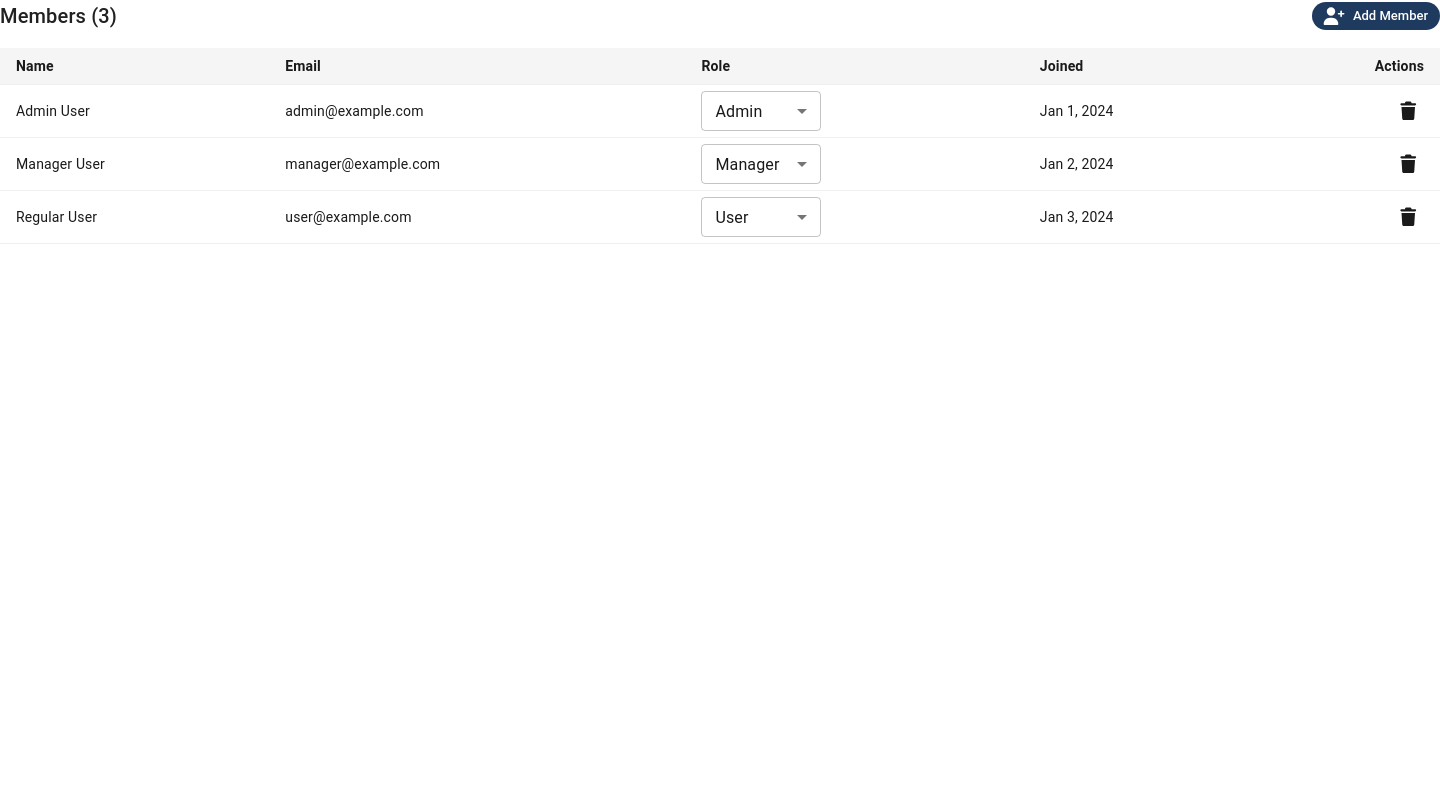
Test: OrgMembersTable › Member Removal › closes dialog when removal is cancelled
// Open dialog
Click the button titled "remove member" in the row of "Admin User": (1408, 111) [1392,97,1424,125]
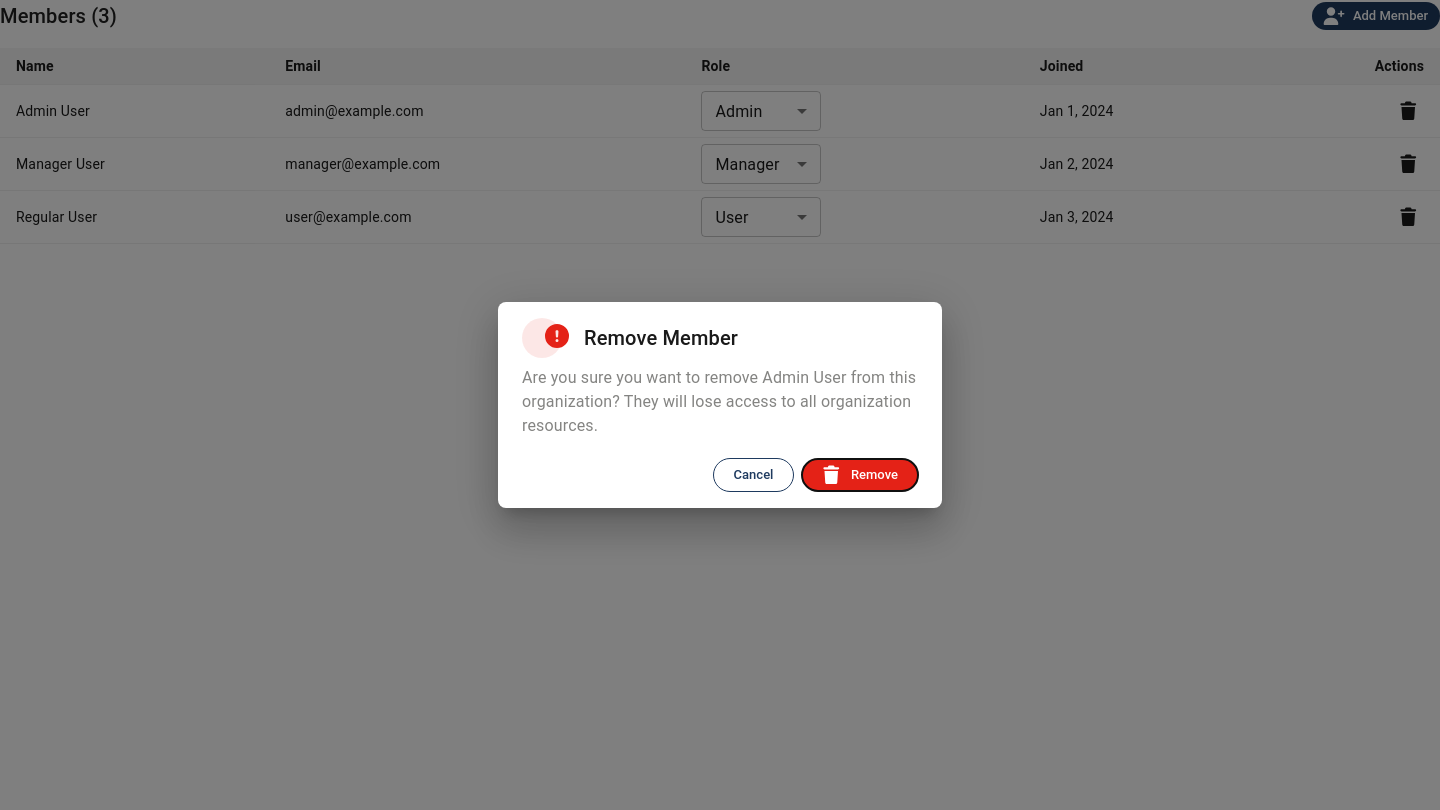
Now the dialog is shown, box [498,302,942,508]
Click the button "Cancel": (754, 475) [713,458,794,492]
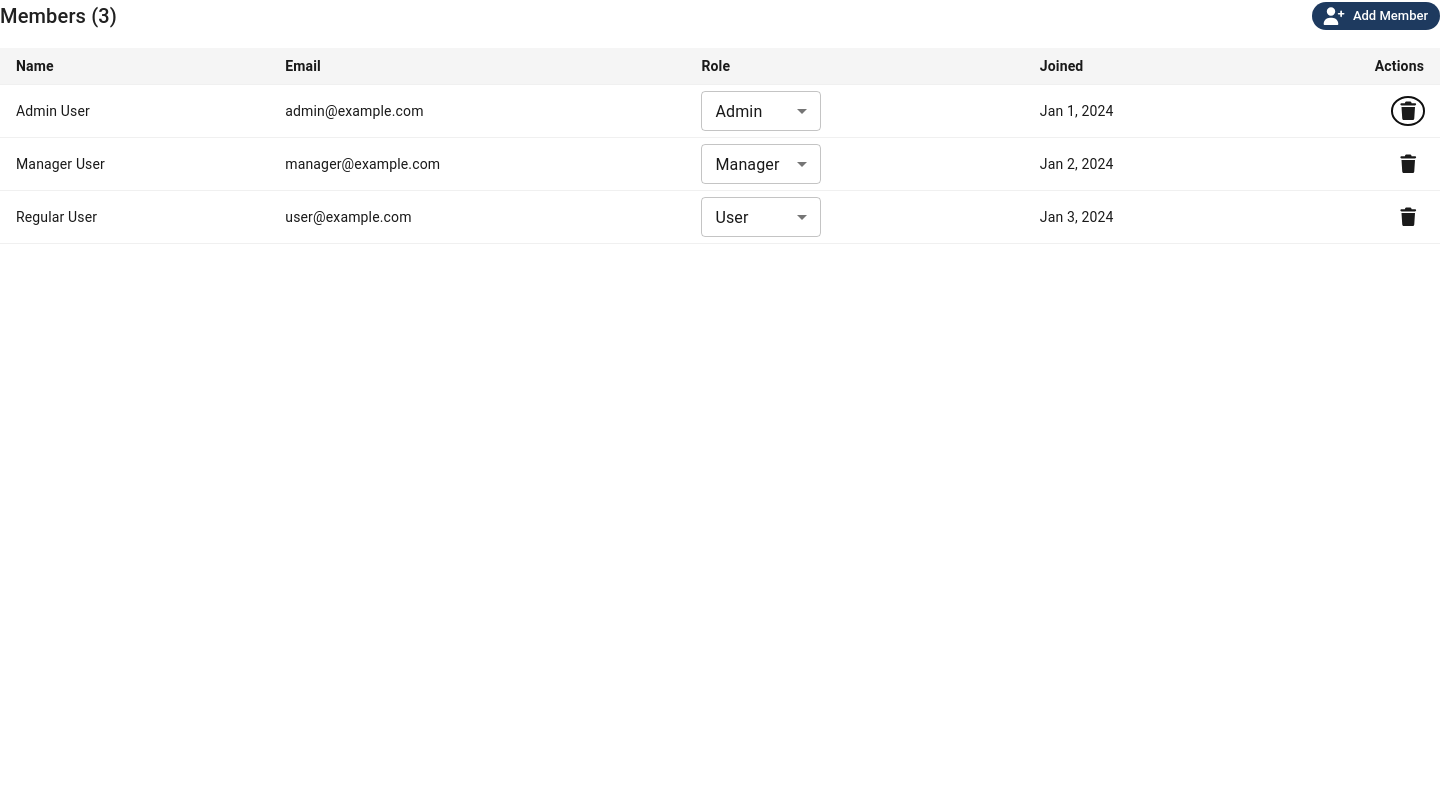
Now the dialog is gone
